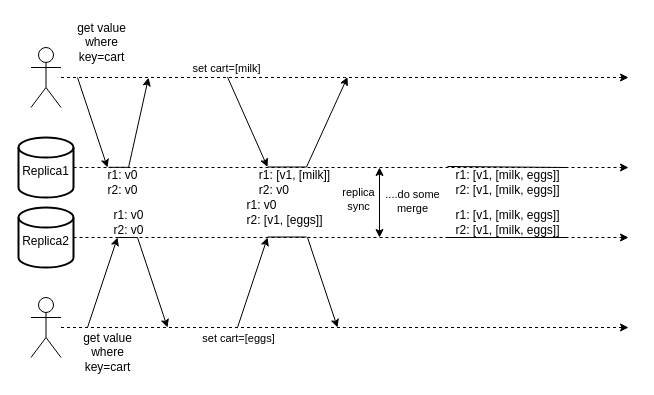
Image size: 654x395. Some labels were removed from this diagram. Each missing label, with the box of its shape:
User1: (30, 46, 61, 108)
User2: (30, 296, 61, 358)
